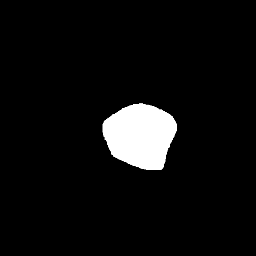mass: (101, 106, 178, 166)
